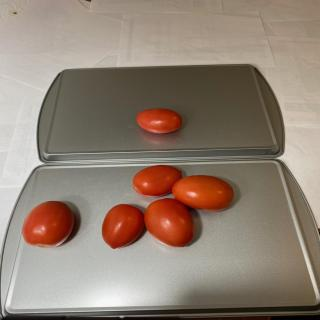Tomato: (144, 198, 195, 247), (22, 200, 74, 248), (172, 174, 234, 212), (102, 204, 144, 249), (132, 165, 182, 197), (136, 108, 182, 134)
